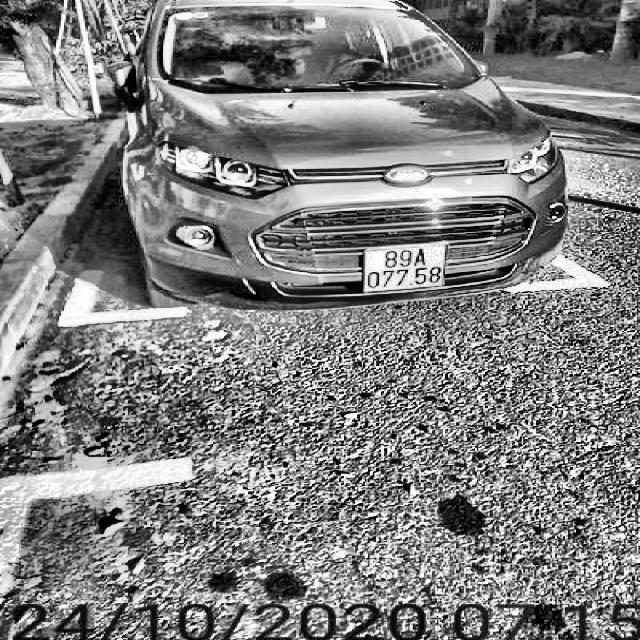plate: (356, 242, 450, 296)
